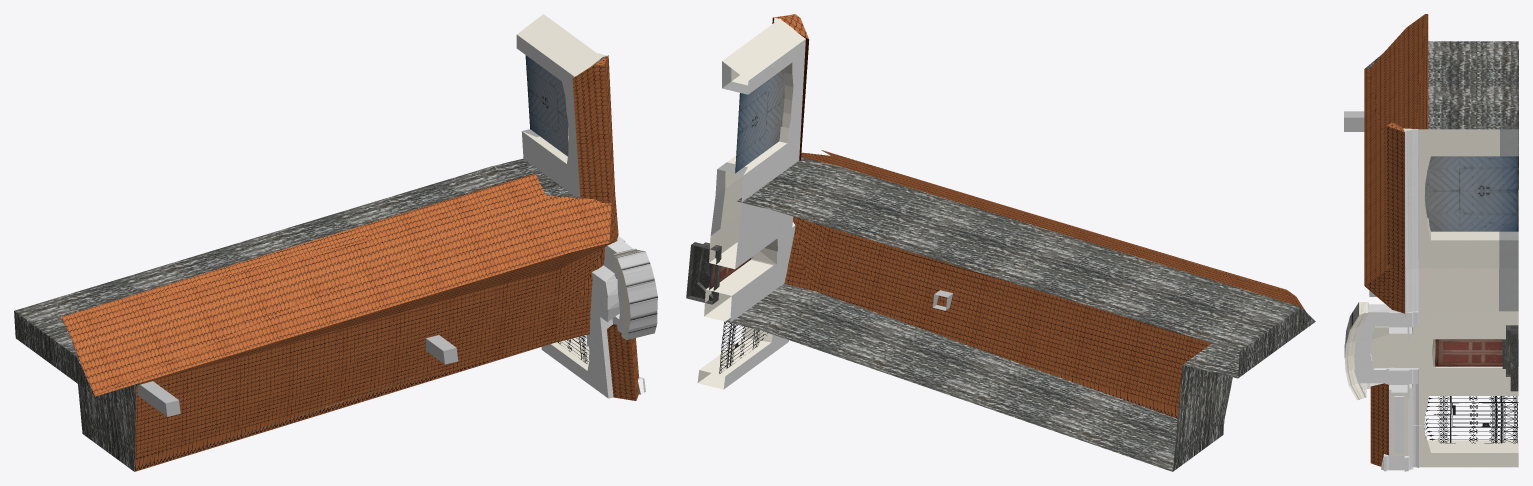
Rendered from Uus_13-2-origo.obj.
3 views of the same model, side by side, from view 1: azimuth 30°, elevation 25°; view 2: azimuth 150°, elevation 25°; view 3: azimuth 270°, elevation 25° (orthographic). The views are drawn at different scales.
Visible parts, largest first — view 1: uus_13_2; view 2: uus_13_2; view 3: uus_13_2.
Boxes of the visible parts, x1,y1,x2,y2 form: uus_13_2: [14, 14, 657, 471]; uus_13_2: [686, 14, 1315, 471]; uus_13_2: [1344, 14, 1518, 471].
Bounding box in the file's own units: 21.19 × 12 × 5.83.
